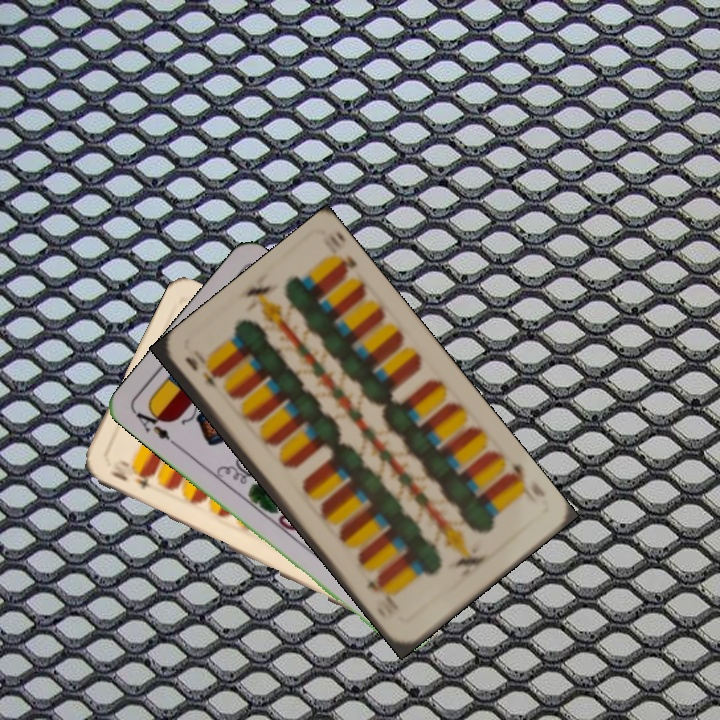E10: (180, 352, 220, 392), (105, 464, 161, 492), (500, 459, 529, 489)
EA: (130, 402, 181, 450)
